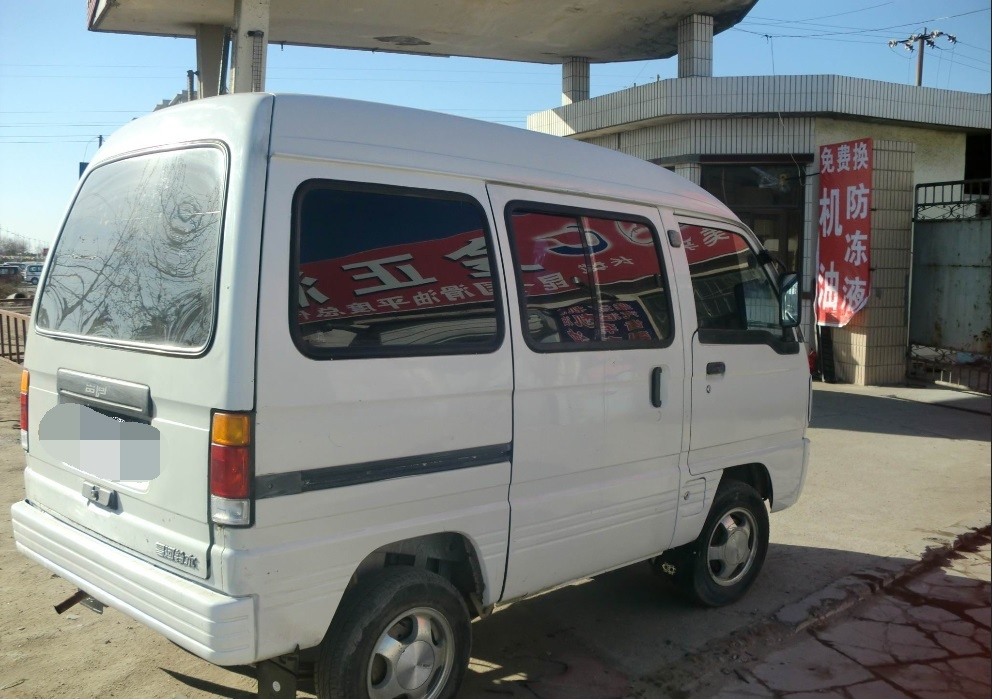minibus: (31, 105, 800, 665)
